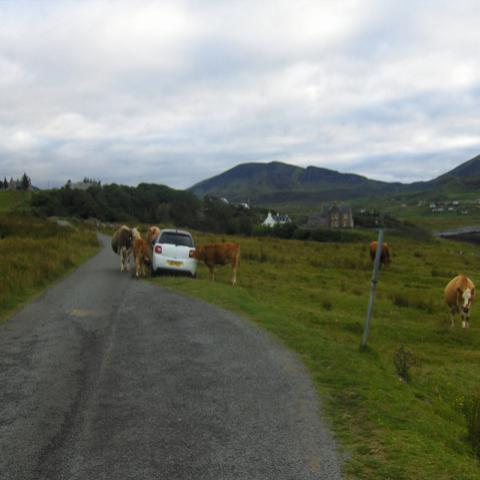car: (152, 228, 198, 279)
